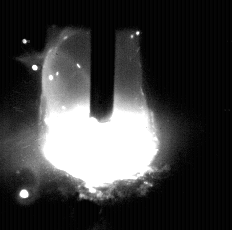arame: (91, 0, 115, 124)
poca: (39, 0, 158, 230)
